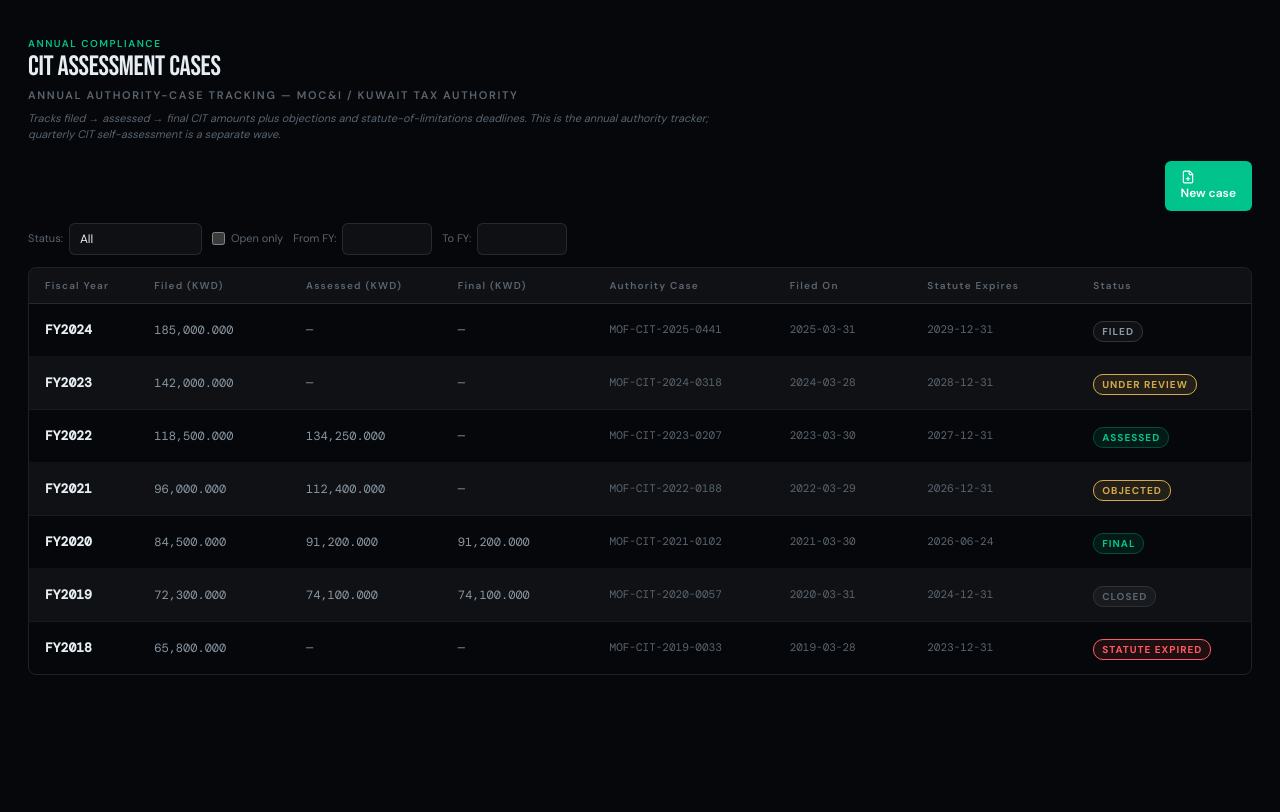
CITAssessmentScreen — per-case detail › UNDER_REVIEW: shows Record Assessment only
Click the button with aria-label "Open case": click(640, 383) top-left (29, 356), bottom-right (1251, 410)
(page scrolled)
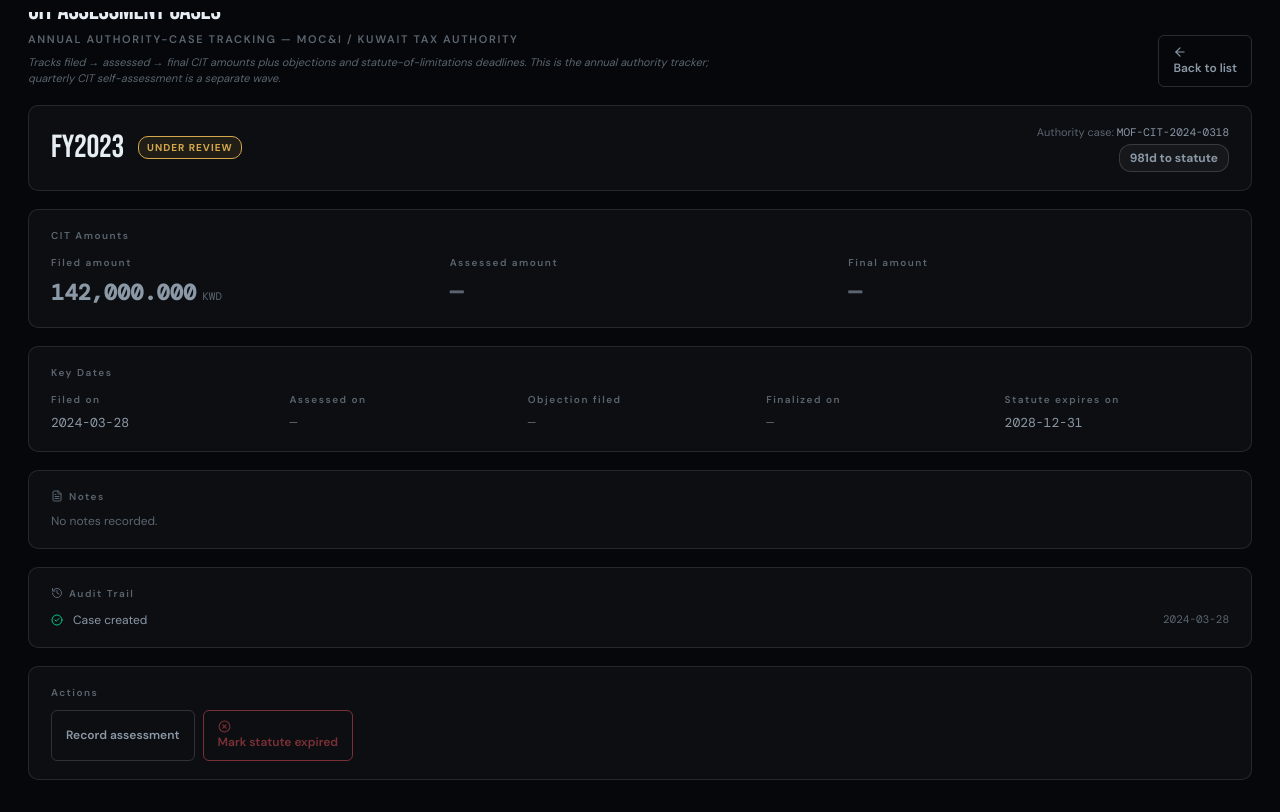
Result: the element with test id "cit-detail-view" is shown
Result: the button with test id "cit-action-record-assessment" is shown at top-left (51, 710), bottom-right (194, 760)
